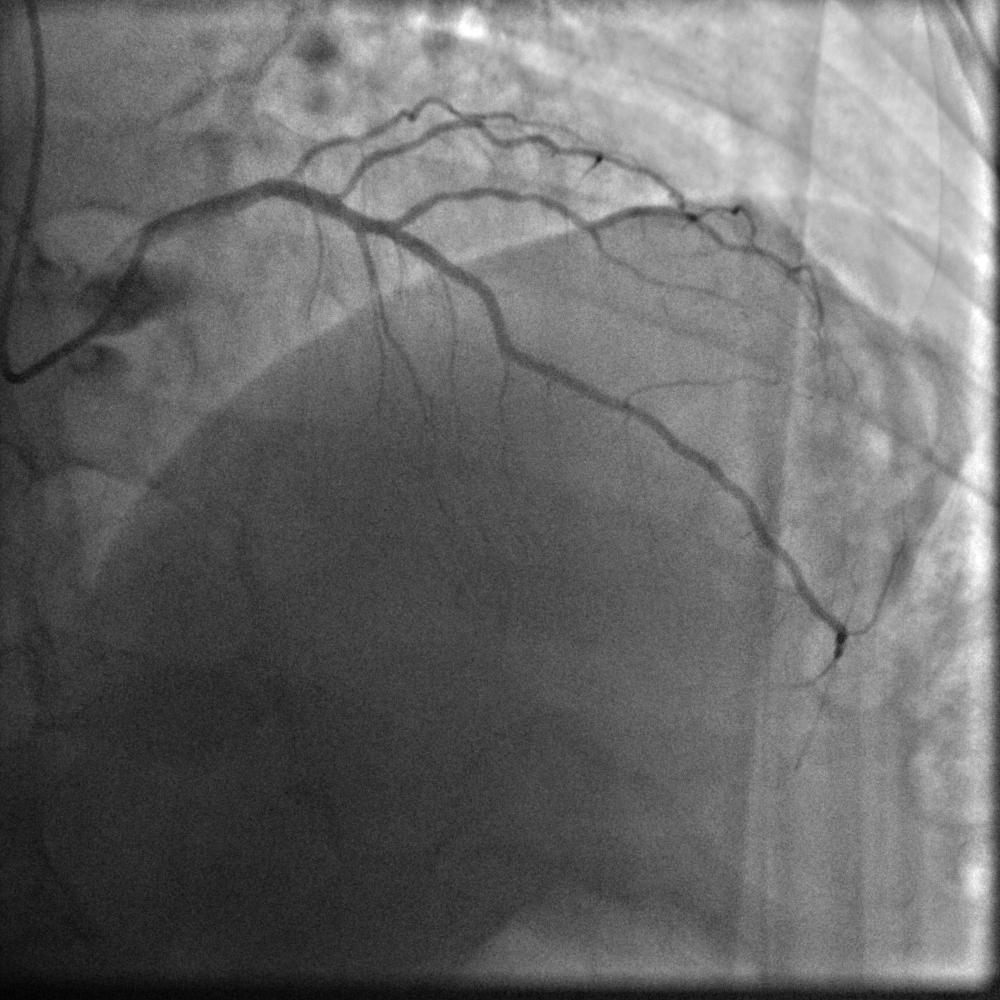Stenosis: (282, 140, 355, 206)
